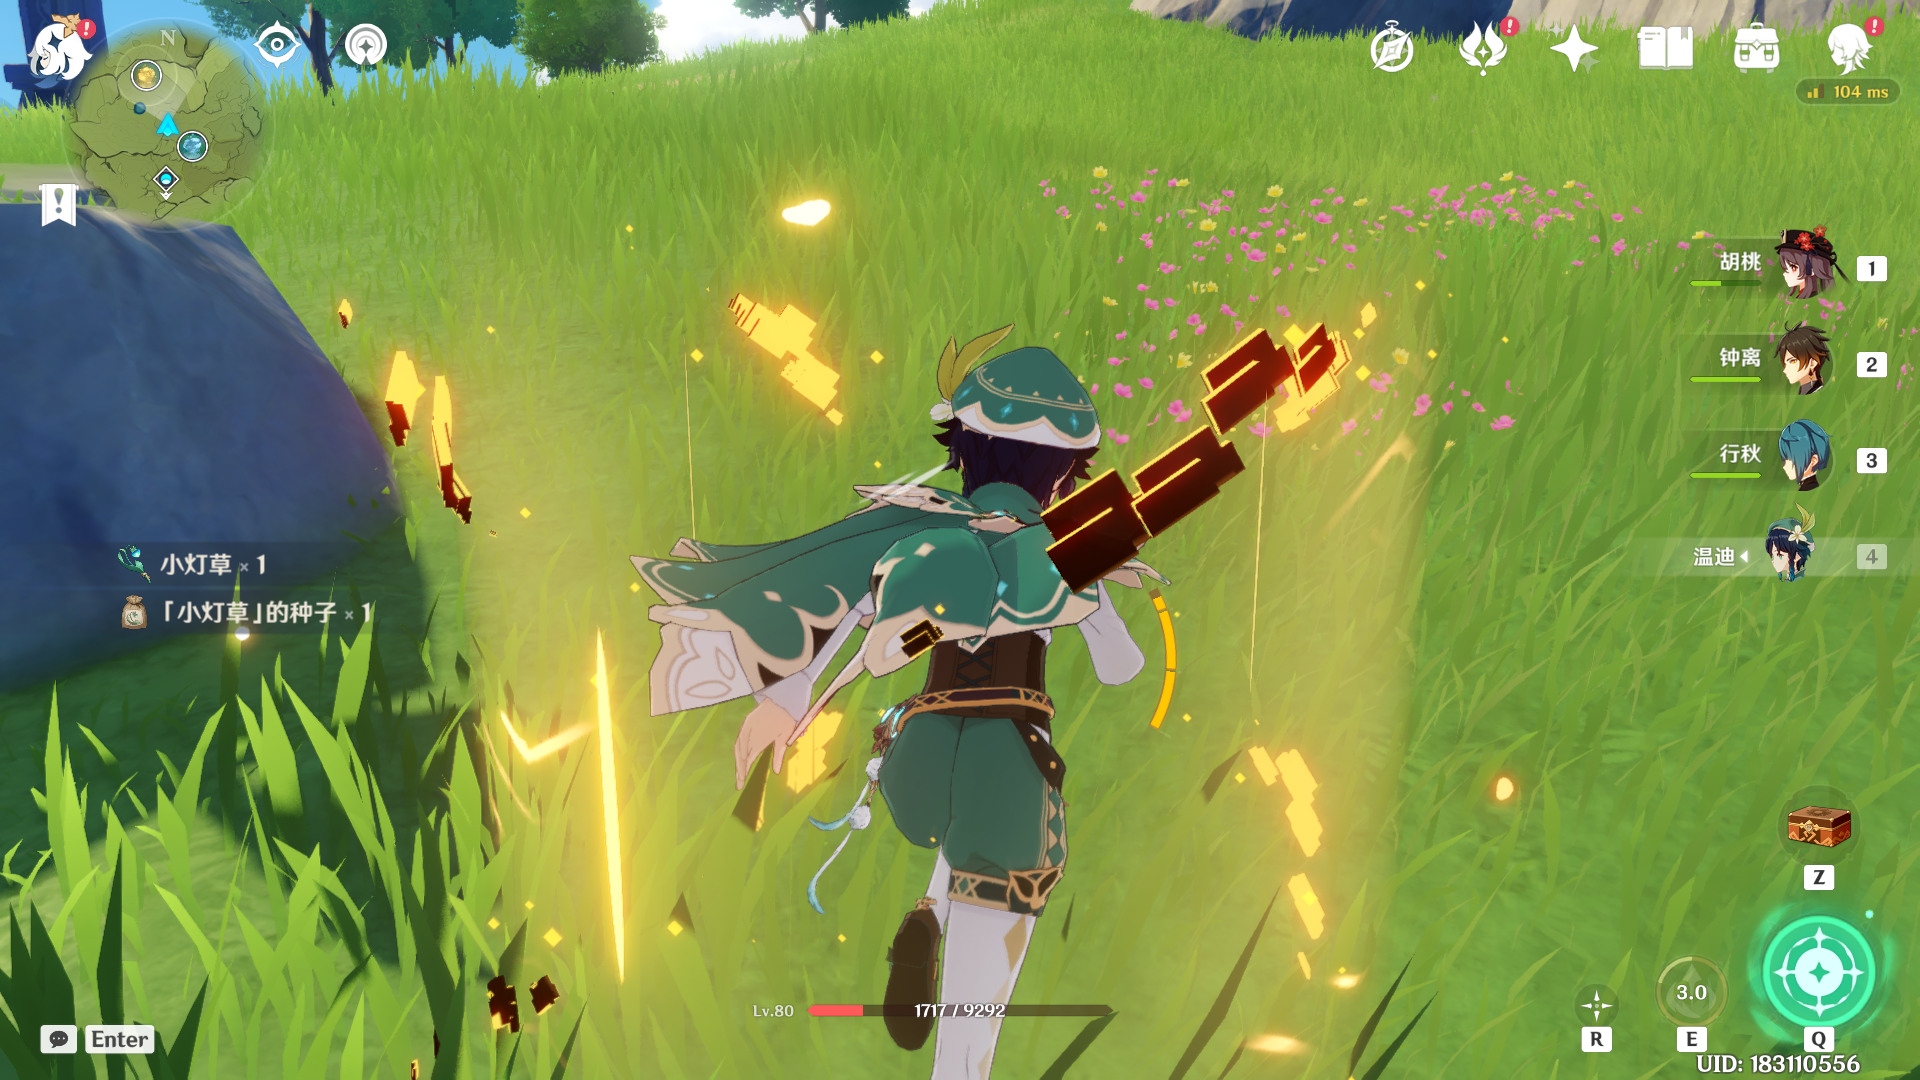character: (655, 303, 1320, 1059)
